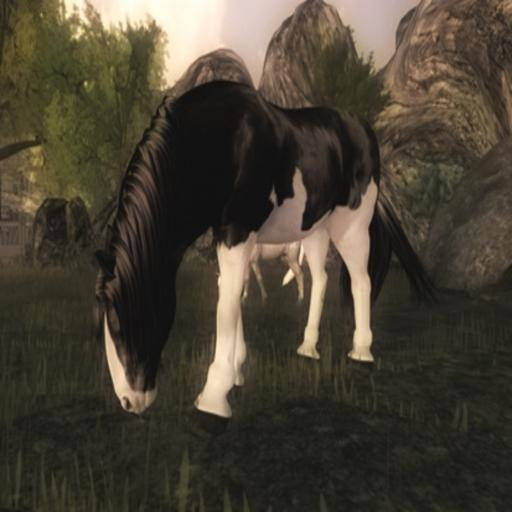horse: (92, 80, 432, 440), (238, 239, 304, 307)
